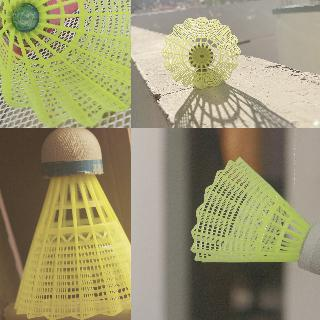shuttlecock: (14, 128, 130, 319), (0, 0, 130, 127), (190, 157, 319, 276), (162, 16, 240, 88)
